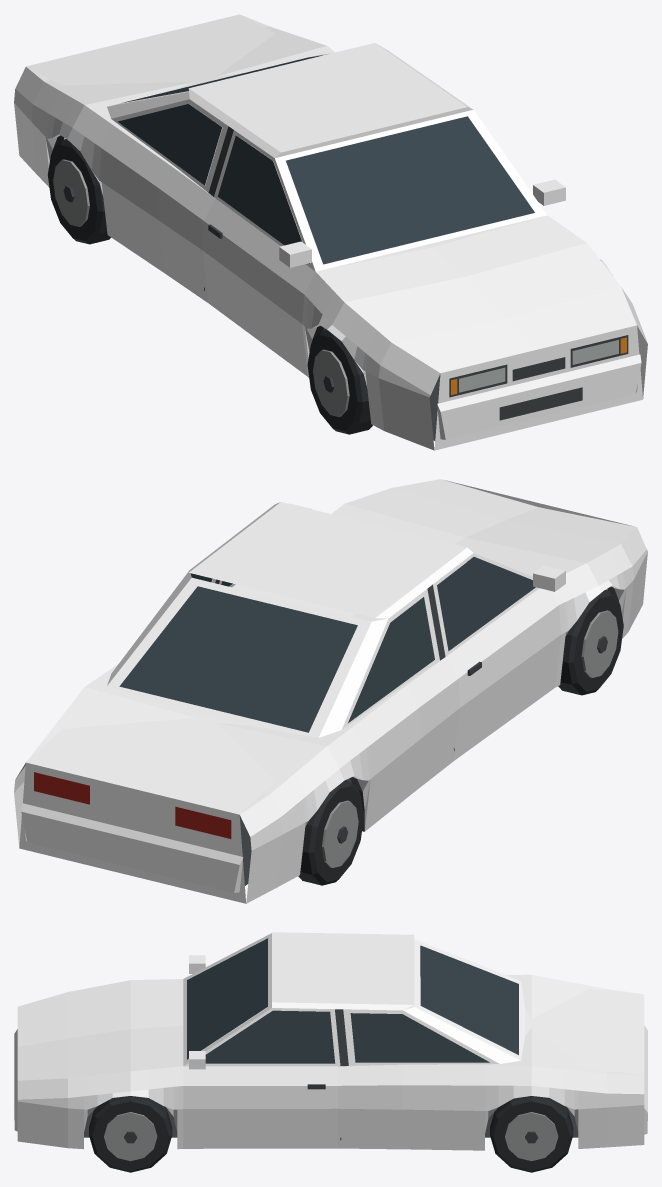
The model's file is arvelle_outlaw_s_97.glb.
The picture shows the model from 3 angles, top to bottom: view 1: azimuth 30°, elevation 25°; view 2: azimuth 150°, elevation 25°; view 3: azimuth 270°, elevation 25°; orthographic projection. The views are drawn at different scales.
Parts seen in each view (by area): view 1: arvelle_outlaw_s_97; view 2: arvelle_outlaw_s_97; view 3: arvelle_outlaw_s_97.
Boxes of the visible parts, x1,y1,x2,y2 form: arvelle_outlaw_s_97: (14,14,647,450); arvelle_outlaw_s_97: (14,479,647,903); arvelle_outlaw_s_97: (14,932,647,1172).
Size of the model in its own units: 1.76 by 1.23 by 4.52.
Materials: 8 (1 with a texture image).
